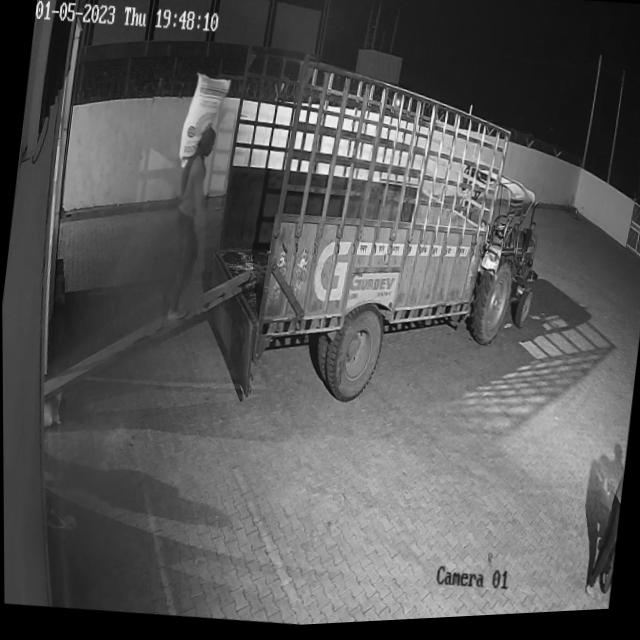sack: (175, 70, 231, 175)
